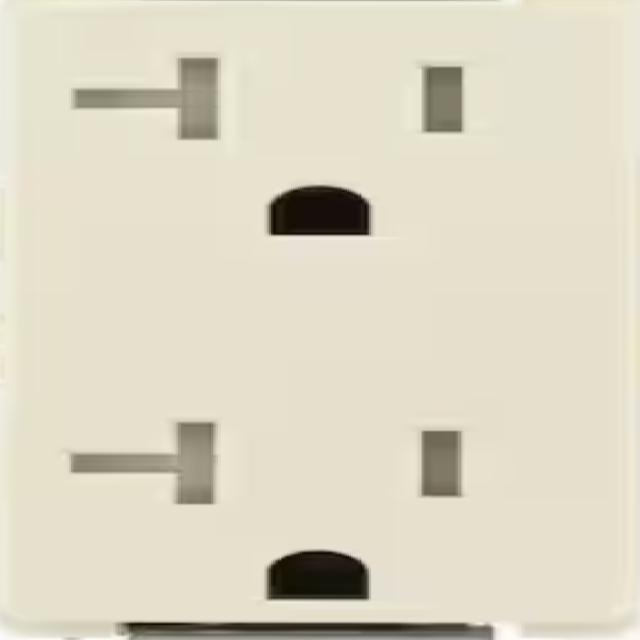type_b_tc: (9, 5, 634, 622), (7, 3, 630, 292), (6, 379, 634, 623)
